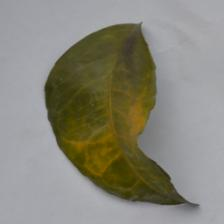greening: (64, 74, 166, 174)
